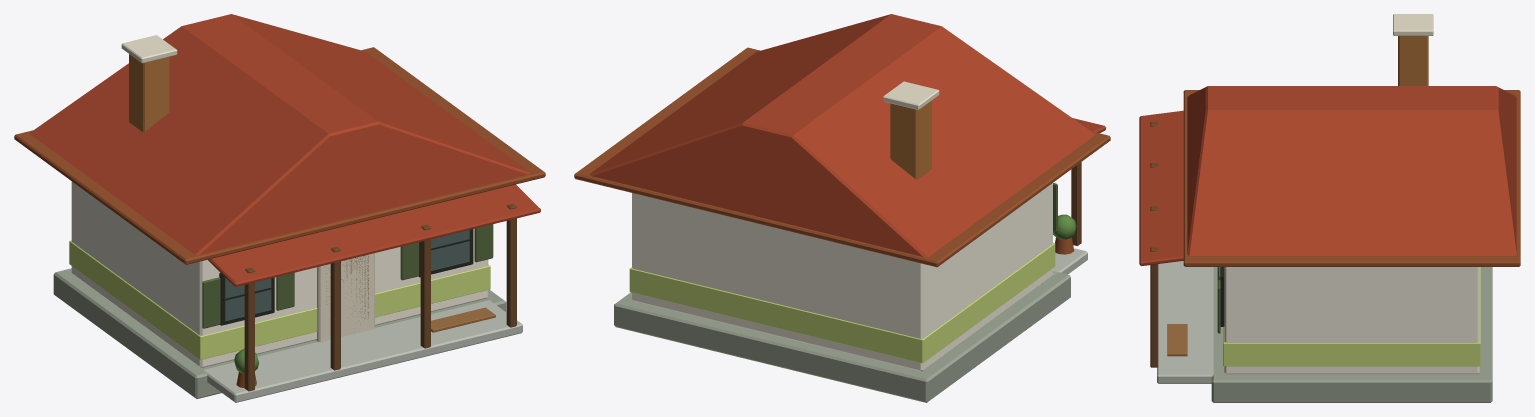
The model's file is house_a.glb.
3 renders of one model, left to right at view 1: azimuth 30°, elevation 25°; view 2: azimuth 150°, elevation 25°; view 3: azimuth 270°, elevation 25°, orthographic. The views are drawn at different scales.
Parts seen in each view (by area): view 1: HouseA; view 2: HouseA; view 3: HouseA.
Part boxes in pixels (x1=…): HouseA: x1=14, y1=14, x2=545, y2=402; HouseA: x1=574, y1=14, x2=1110, y2=402; HouseA: x1=1139, y1=14, x2=1520, y2=402.
Size of the model in its own units: 8 by 5.61 by 7.46.
